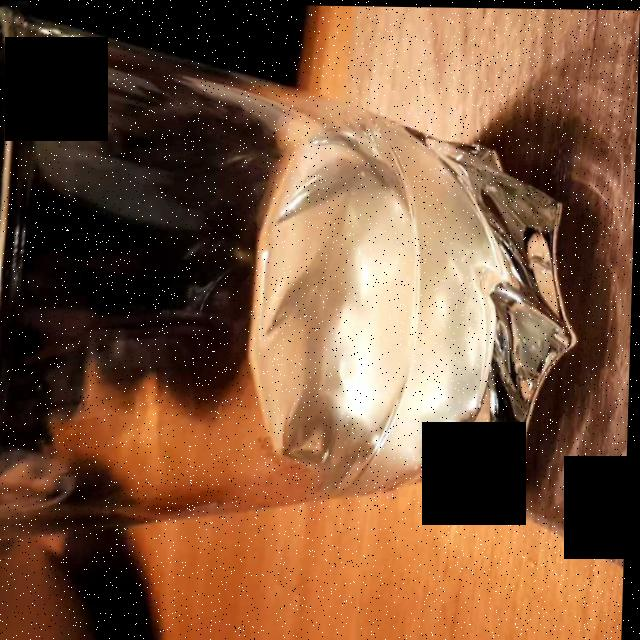kefir-drink: (62, 70, 521, 505)
